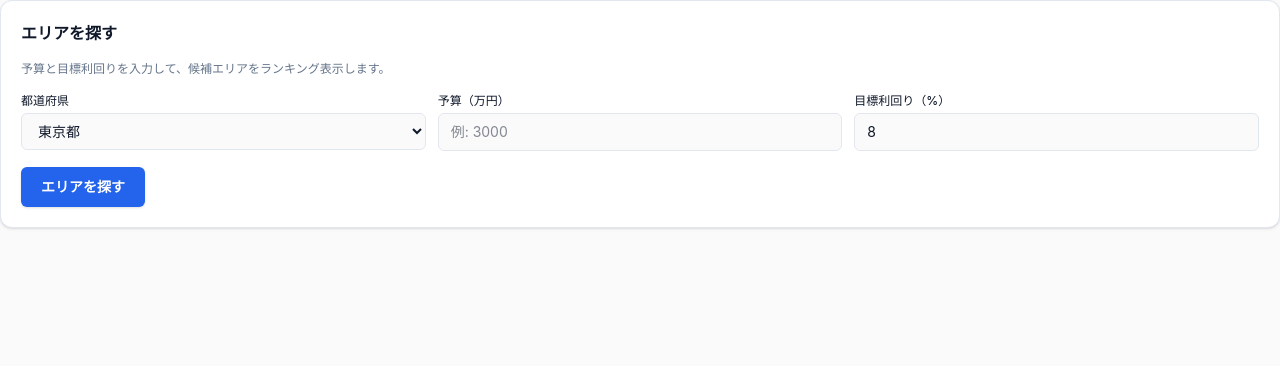
AreaDiscovery › dataSufficient=false のとき「（データ少）」が表示される
Click the button "エリアを探す".
click(83, 187)  # box [21, 167, 145, 207]
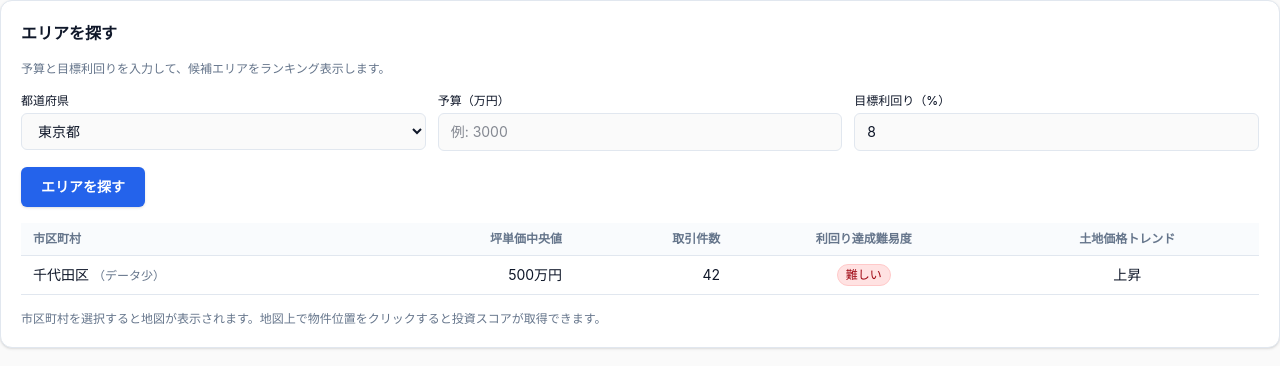
Expected: the text "（データ少）" is shown, [93, 268, 165, 283]
